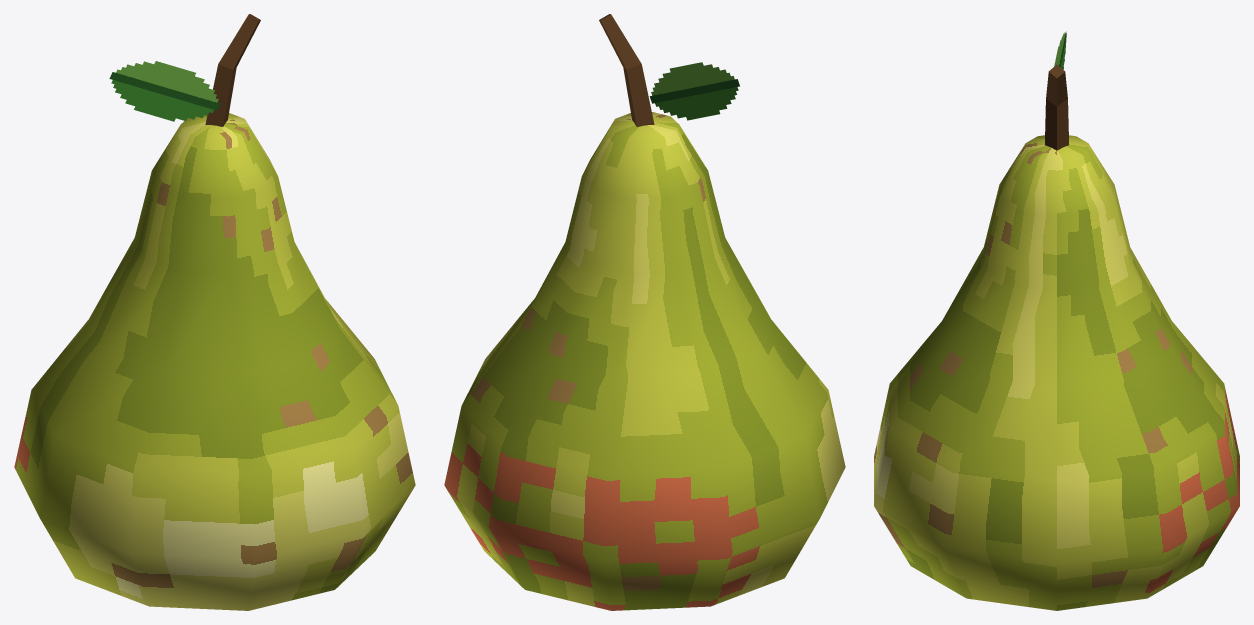
File: produce-pear.glb
3 views of the same model, side by side, from view 1: azimuth 30°, elevation 25°; view 2: azimuth 150°, elevation 25°; view 3: azimuth 270°, elevation 25° (orthographic). The views are drawn at different scales.
Parts seen in each view (by area): view 1: produce.pear; view 2: produce.pear; view 3: produce.pear.
Part boxes in pixels (x1,y1,x2,y2): produce.pear: (14,14,415,610); produce.pear: (444,14,845,610); produce.pear: (874,31,1239,610).
Bounding box in the file's own units: 1.28 × 1.93 × 1.22.
3 materials, 2 textured.
